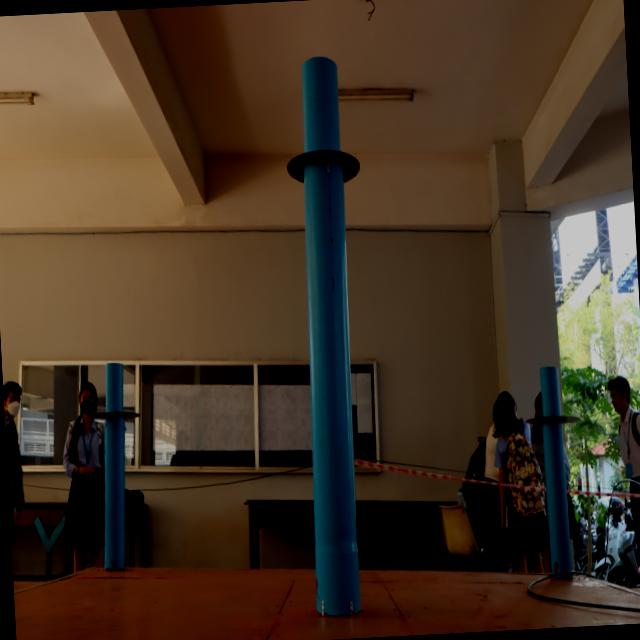pole: (277, 46, 373, 240), (528, 362, 584, 481), (88, 356, 144, 474)
